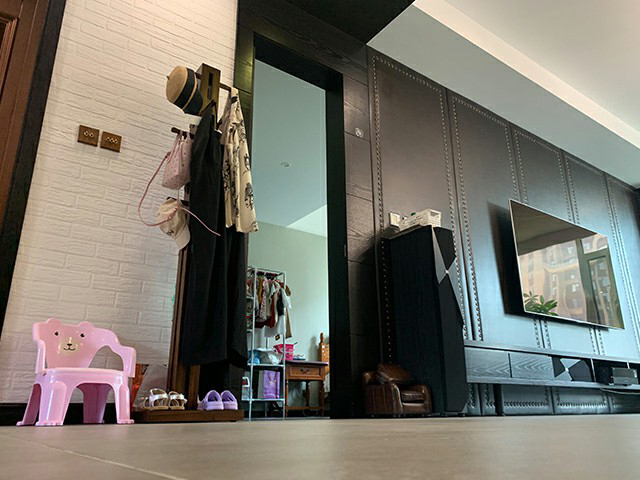cabinet: (463, 339, 640, 417)
slippers: (199, 390, 222, 409), (220, 390, 238, 407)
sofa: (361, 362, 433, 419)
stool: (16, 316, 138, 428)
table: (286, 356, 327, 419)
